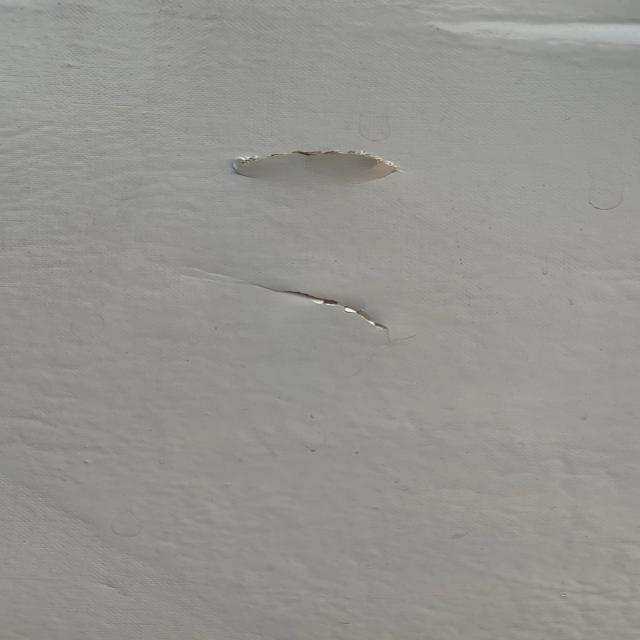Dents or Deformation: (398, 12, 640, 39)
Scratches: (193, 121, 435, 196), (234, 265, 444, 339)
